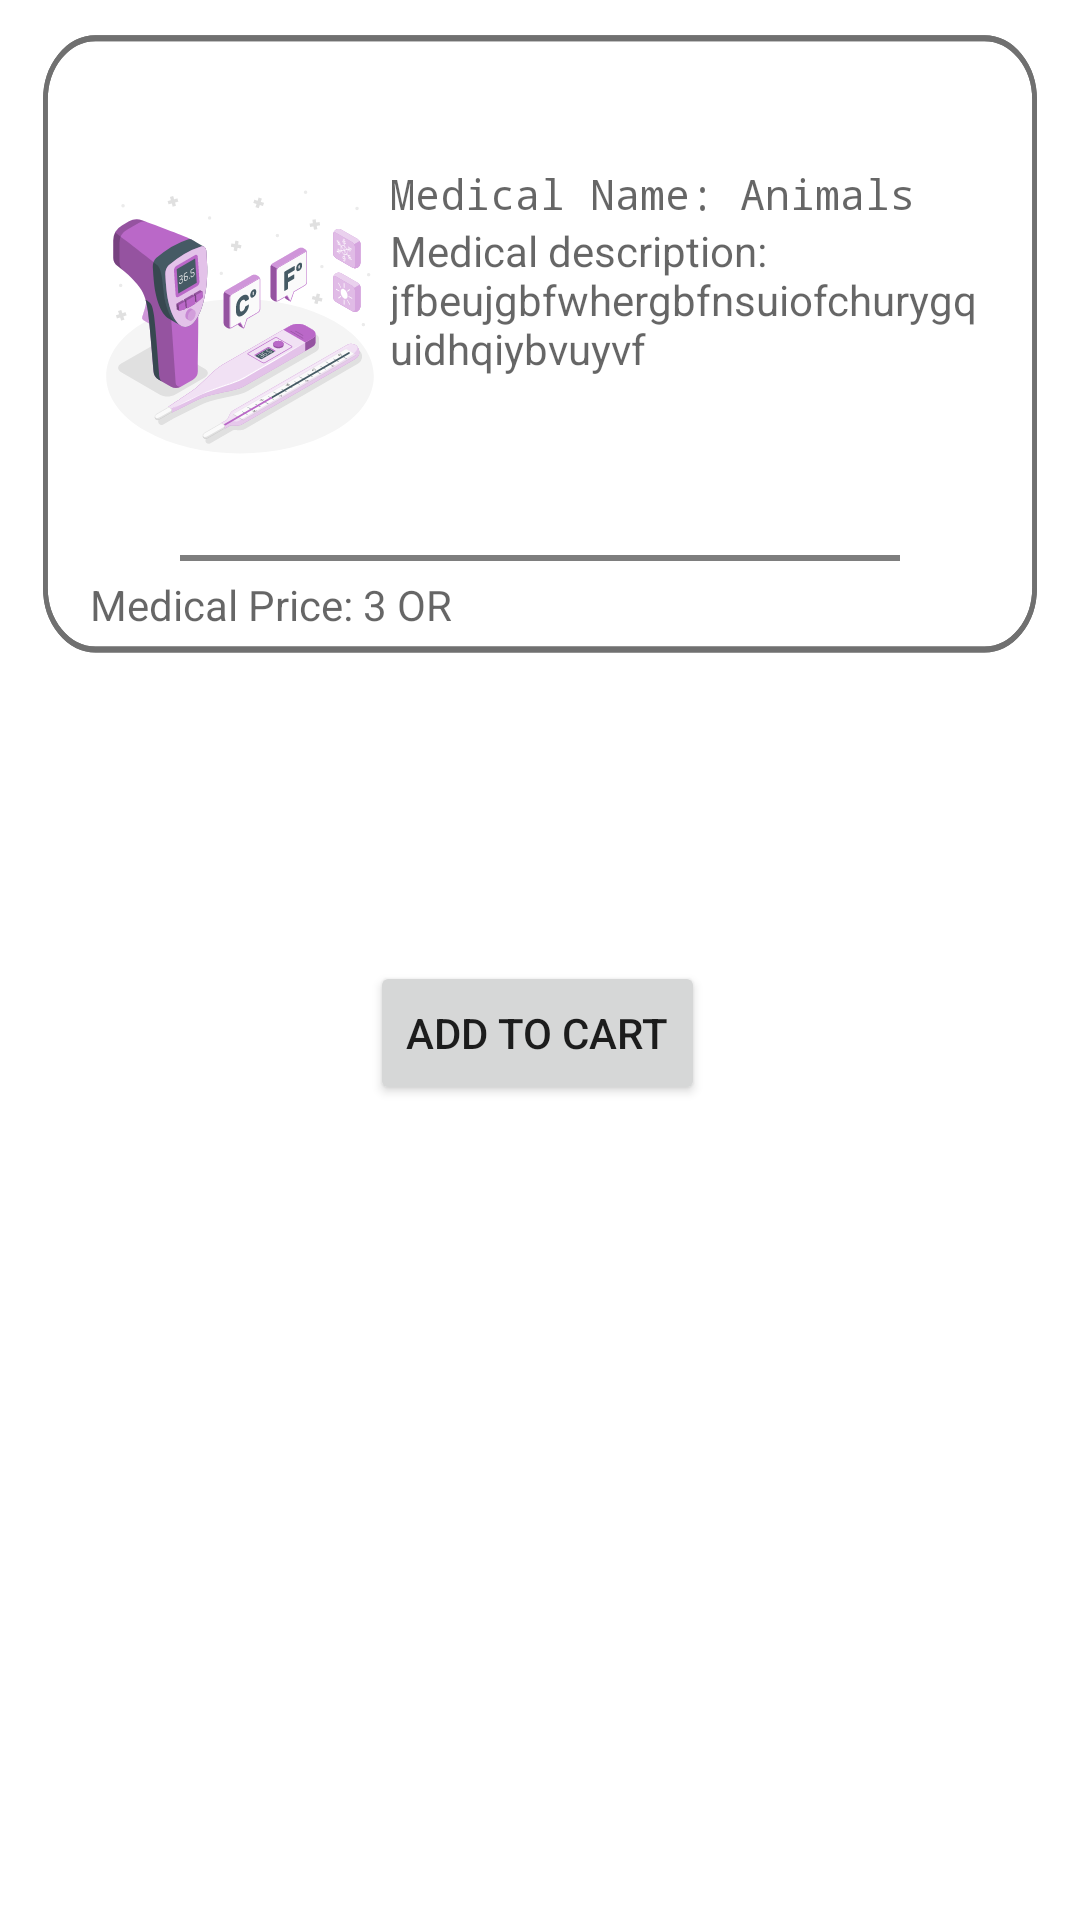

Icon bounding boxes for this 1080*1920 phone screenshot, format region(x1, y1, x2, y2):
thermometer amico: region(113, 196, 362, 444)
